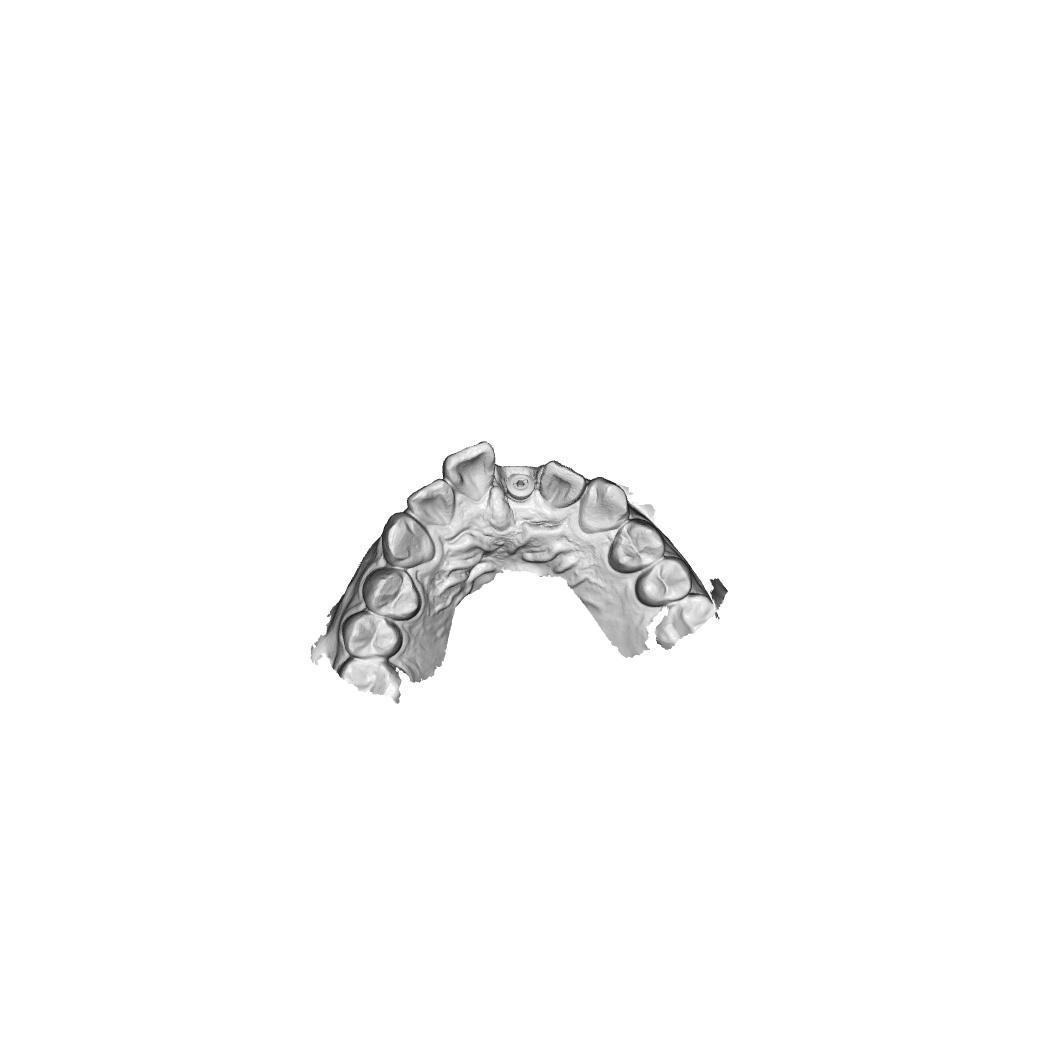canine: (380, 511, 436, 569), (577, 476, 631, 535)
implant_minus: (504, 472, 535, 503)
incisor: (441, 439, 496, 502), (406, 478, 457, 527), (539, 459, 587, 510)
premolar: (361, 566, 422, 622), (607, 517, 666, 574), (341, 609, 404, 659), (634, 556, 693, 608)
